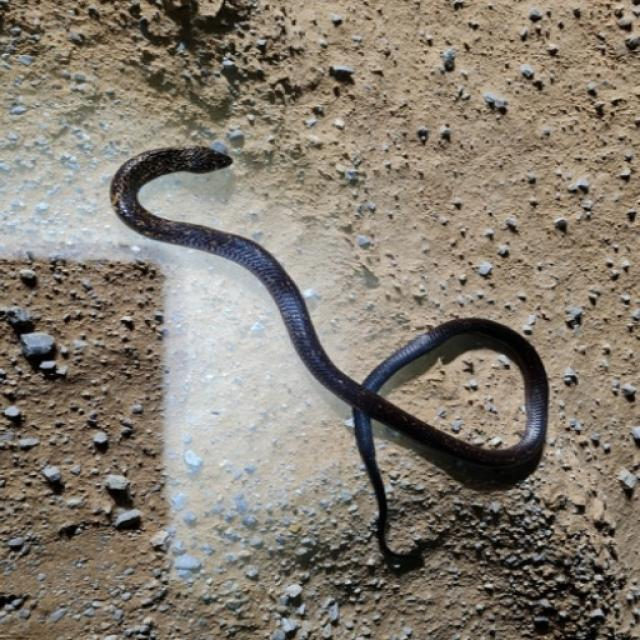snake: (104, 125, 576, 570)
